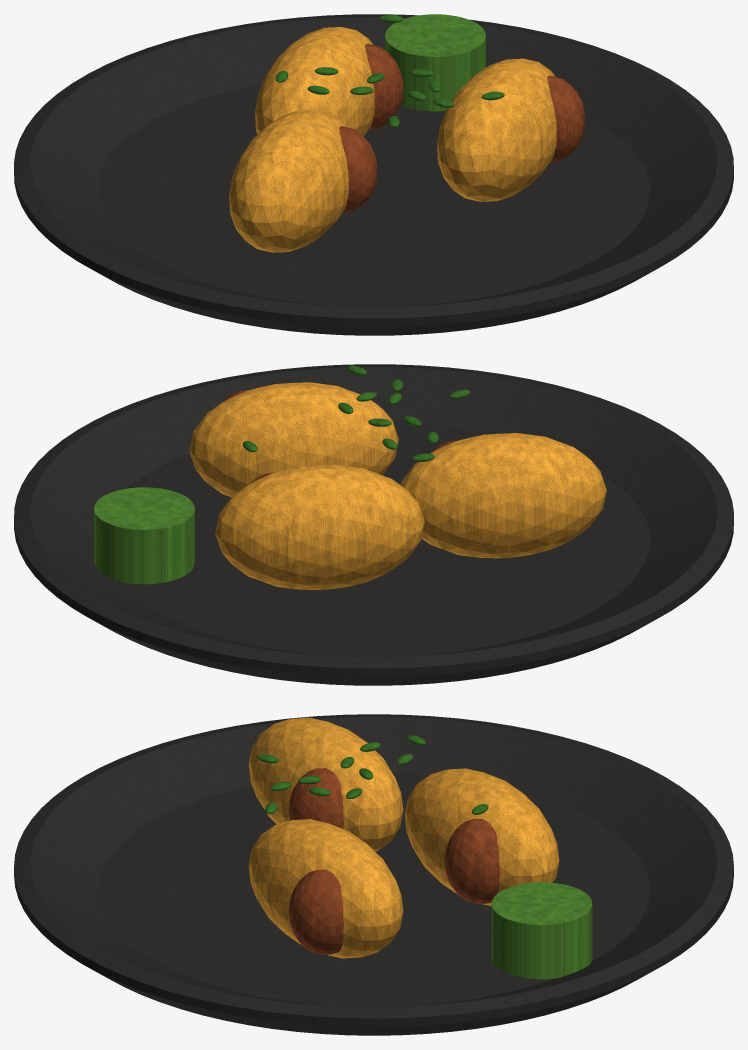
The model's file is empanadas-autor.glb.
The picture shows the model from 3 angles, top to bottom: view 1: azimuth 30°, elevation 25°; view 2: azimuth 150°, elevation 25°; view 3: azimuth 270°, elevation 25°; orthographic projection.
Parts seen in each view (by area): view 1: part0, part1, part3, part2, part4; view 2: part0, part1, part3, part4; view 3: part0, part1, part2, part3, part4.
Part boxes in pixels (x1,y1,x2,y2): part0: (14,14,733,335); part1: (229,27,556,252); part3: (385,14,485,111); part2: (339,43,584,213); part4: (275,14,504,127); part0: (14,364,733,685); part1: (189,382,606,589); part3: (94,487,194,584); part4: (242,365,470,461); part0: (14,714,733,1035); part1: (248,717,559,958); part2: (288,768,499,954); part3: (491,882,592,979); part4: (257,735,488,814).
Bounding box in the file's own units: 0.3 × 0.0665 × 0.3.
5 materials, 5 textured.
